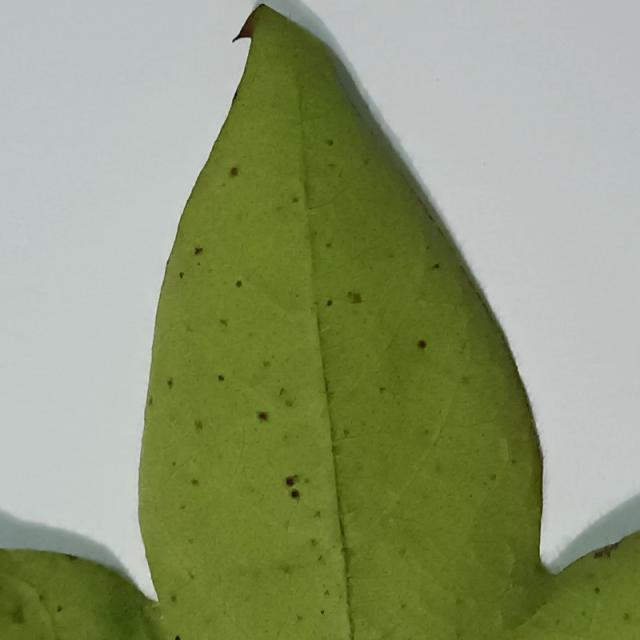Bacterial_Blight: (303, 162, 333, 205), (230, 12, 257, 43), (593, 542, 620, 559), (497, 438, 511, 467), (348, 290, 362, 303), (233, 277, 247, 289), (12, 610, 24, 624), (285, 475, 297, 487), (231, 87, 239, 103), (290, 489, 300, 500), (282, 566, 293, 576), (194, 419, 203, 431), (418, 298, 428, 308), (257, 412, 268, 421), (398, 547, 407, 558), (593, 548, 602, 559), (417, 340, 427, 349), (461, 375, 470, 385), (217, 373, 226, 382), (310, 537, 319, 546), (455, 598, 464, 607), (284, 399, 294, 407), (230, 167, 238, 177), (187, 570, 195, 580), (426, 211, 434, 221), (194, 247, 203, 255), (313, 510, 321, 519), (623, 613, 631, 622), (342, 428, 350, 437), (326, 138, 334, 146), (219, 319, 227, 327), (191, 478, 199, 486), (262, 359, 270, 367), (296, 614, 304, 622), (431, 263, 440, 270), (278, 387, 285, 396), (167, 379, 173, 389), (147, 394, 152, 406), (594, 586, 601, 594), (424, 428, 431, 436), (170, 595, 177, 603), (323, 589, 330, 597), (56, 605, 63, 613), (67, 554, 75, 561), (39, 594, 46, 602), (326, 299, 333, 306), (292, 196, 299, 203), (490, 473, 497, 480), (325, 241, 332, 248), (379, 386, 386, 393), (400, 603, 407, 610), (555, 618, 561, 626), (454, 634, 462, 640), (179, 504, 186, 510), (317, 555, 323, 562), (188, 537, 194, 544), (179, 272, 184, 279), (173, 636, 181, 640), (319, 609, 324, 615), (172, 461, 176, 466)
Cotton: (0, 3, 639, 639)
